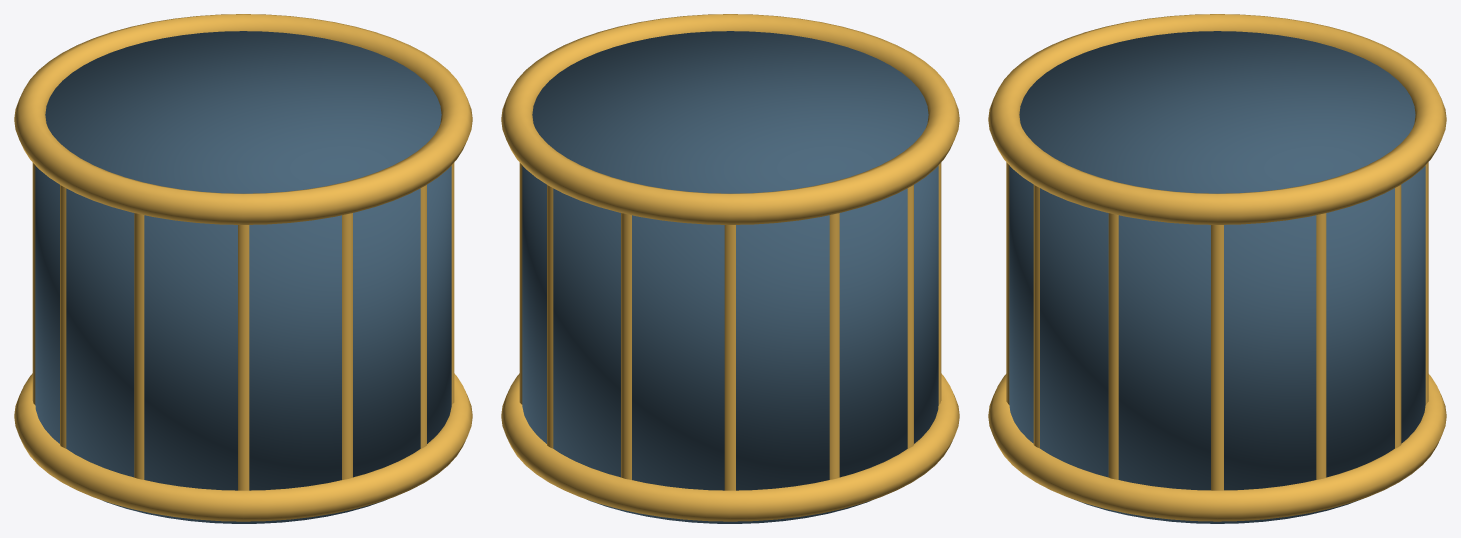
File: 07_L93_PristineSampleVaultOuterShell.fbx
3 renders of one model, left to right at view 1: azimuth 30°, elevation 25°; view 2: azimuth 150°, elevation 25°; view 3: azimuth 270°, elevation 25°, orthographic.
Visible parts, largest first — view 1: L92_PristineSampleVaultOuterShell_Part_0000, L92_PristineSampleVaultOuterShell_Part_0002, L92_PristineSampleVaultOuterShell_Part_0001; view 2: L92_PristineSampleVaultOuterShell_Part_0000, L92_PristineSampleVaultOuterShell_Part_0002, L92_PristineSampleVaultOuterShell_Part_0001; view 3: L92_PristineSampleVaultOuterShell_Part_0000, L92_PristineSampleVaultOuterShell_Part_0002, L92_PristineSampleVaultOuterShell_Part_0001.
Boxes of the visible parts, x1,y1,x2,y2 form: L92_PristineSampleVaultOuterShell_Part_0000: (35,31,451,523); L92_PristineSampleVaultOuterShell_Part_0002: (14,163,472,521); L92_PristineSampleVaultOuterShell_Part_0001: (14,14,472,224); L92_PristineSampleVaultOuterShell_Part_0000: (522,31,938,523); L92_PristineSampleVaultOuterShell_Part_0002: (501,163,959,521); L92_PristineSampleVaultOuterShell_Part_0001: (501,14,959,224); L92_PristineSampleVaultOuterShell_Part_0000: (1009,31,1425,523); L92_PristineSampleVaultOuterShell_Part_0002: (988,162,1446,521); L92_PristineSampleVaultOuterShell_Part_0001: (988,14,1446,224).
Bounding box in the file's own units: 440 × 351 × 440.
